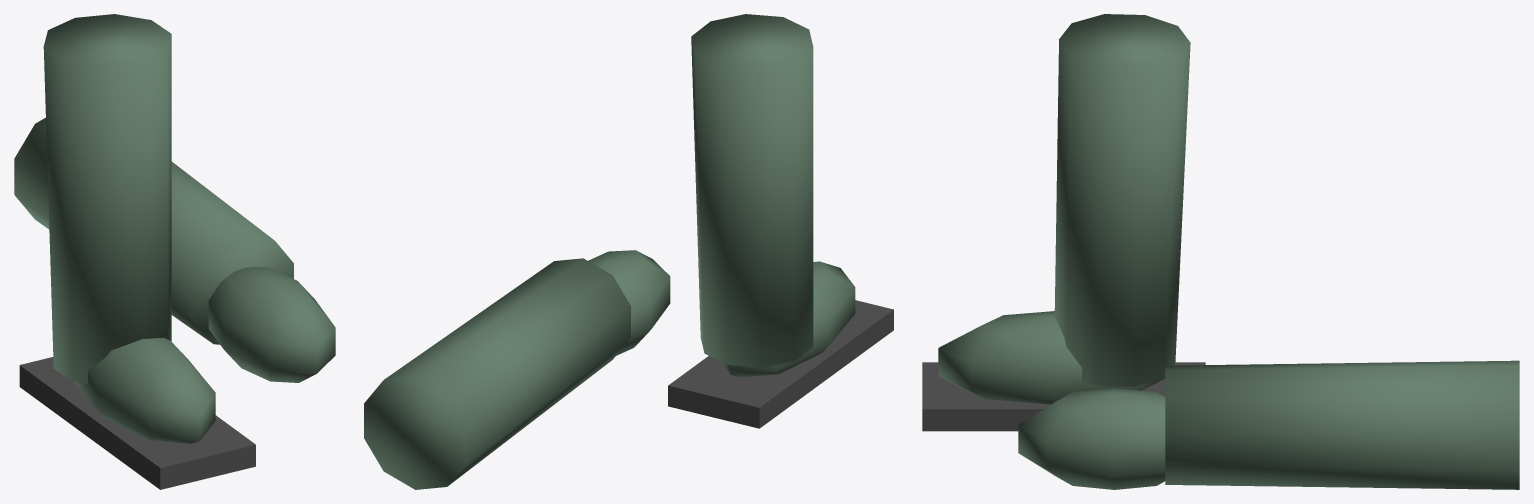
The model's file is prop_debris_boots.fbx.
The picture shows the model from 3 angles, left to right: view 1: azimuth 30°, elevation 25°; view 2: azimuth 150°, elevation 25°; view 3: azimuth 270°, elevation 25°; orthographic projection. The views are drawn at different scales.
Visible parts, largest first — view 1: prop_debris_boots; view 2: prop_debris_boots; view 3: prop_debris_boots.
Part boxes in pixels (left/top/right/bottom): prop_debris_boots: left=14, top=14, right=335, bottom=489; prop_debris_boots: left=364, top=14, right=893, bottom=489; prop_debris_boots: left=922, top=14, right=1519, bottom=489.
Bounding box in the file's own units: 0.3036 × 0.4019 × 0.59.
